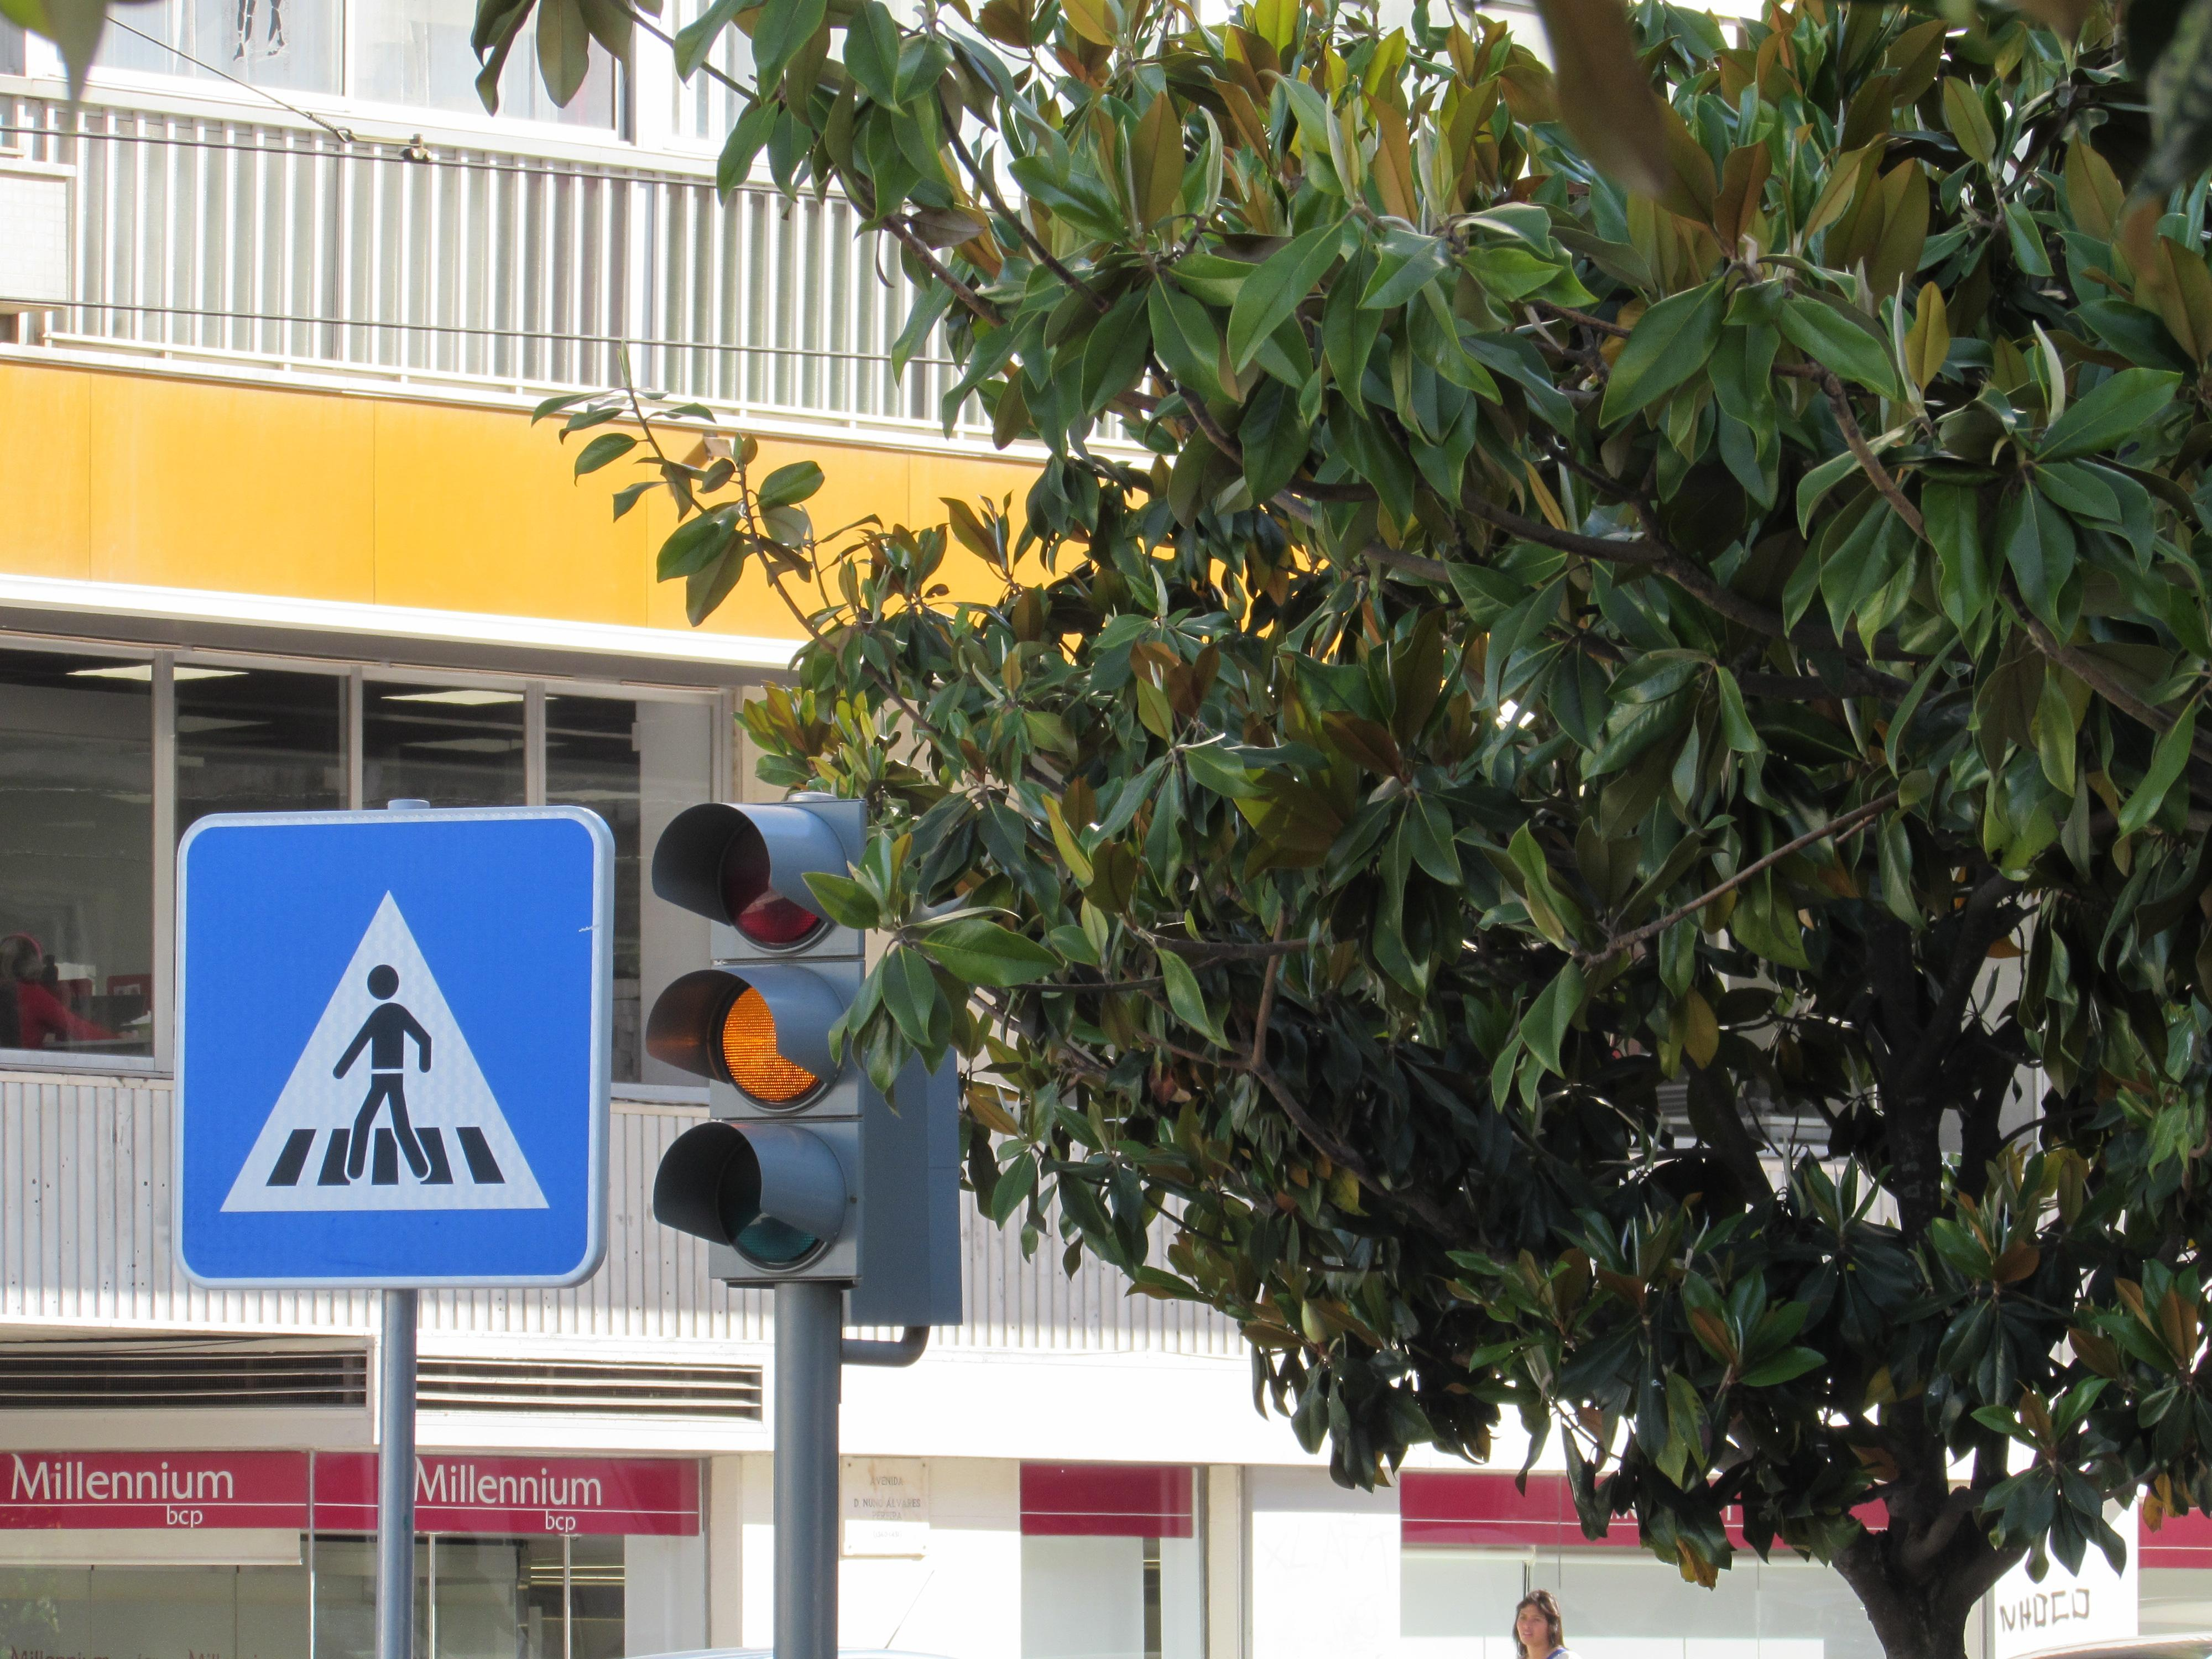yellow_light: (648, 800, 864, 1286)
